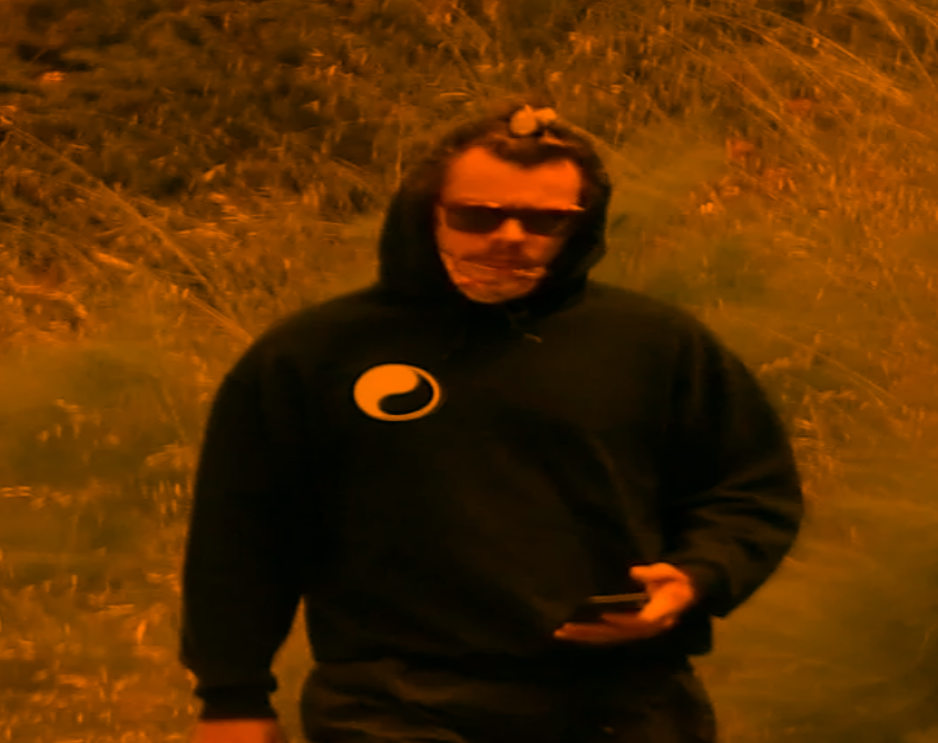mask_weared_incorrect: (404, 126, 610, 312)
